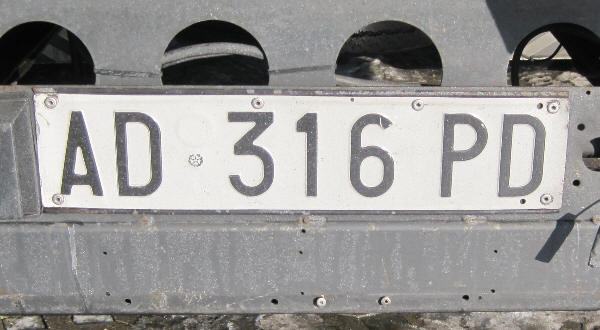license_plate: (32, 91, 573, 207)
